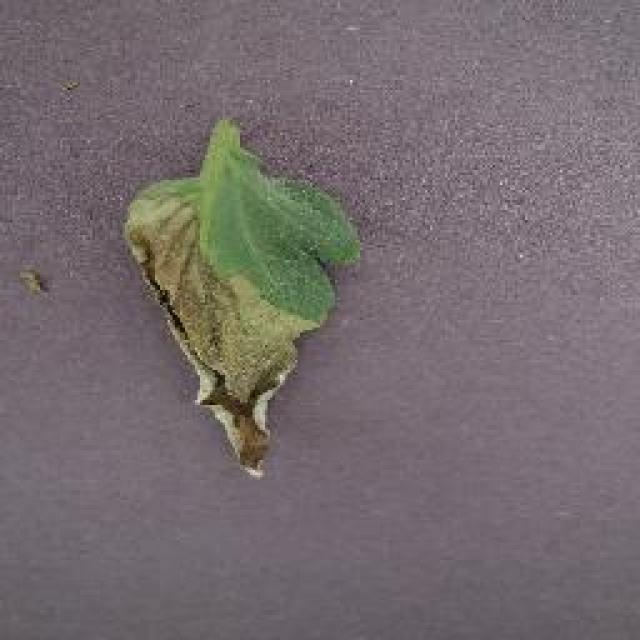Tomato_Late_Blight: (109, 118, 368, 496)
